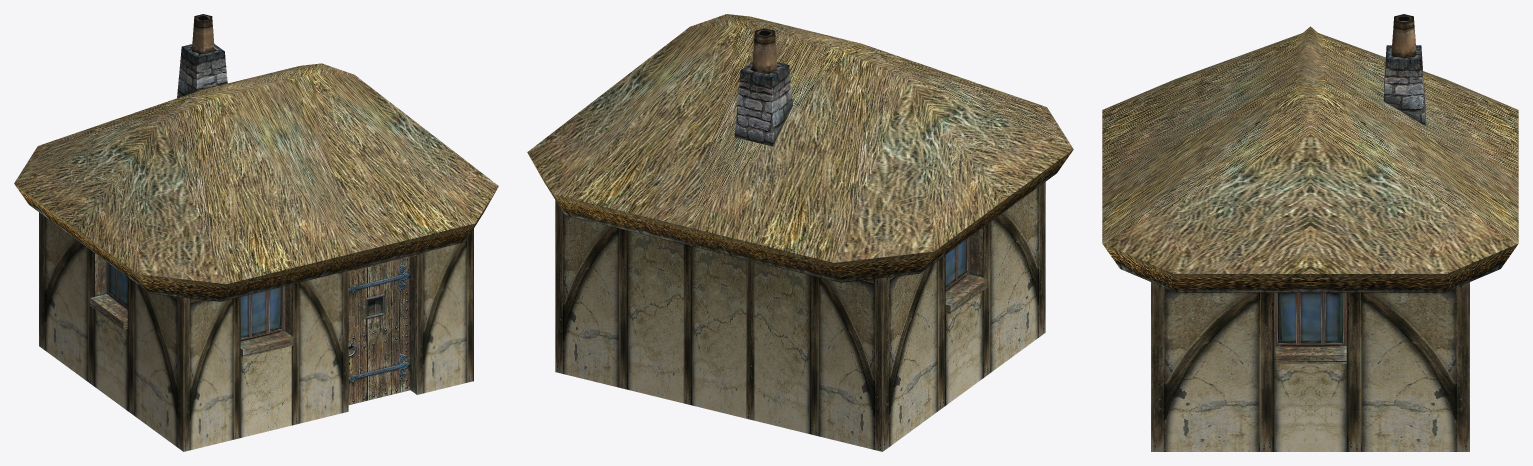
File: S_home20.glb
3 renders of one model, left to right at view 1: azimuth 30°, elevation 25°; view 2: azimuth 150°, elevation 25°; view 3: azimuth 270°, elevation 25°, orthographic. The views are drawn at different scales.
Visible parts, largest first — view 1: S_home20-col; view 2: S_home20-col; view 3: S_home20-col.
Part boxes in pixels (<box>): S_home20-col: <box>14,14,498,451</box>; S_home20-col: <box>527,14,1073,451</box>; S_home20-col: <box>1102,14,1518,451</box>.
Bounding box in the file's own units: 6.34 × 5.32 × 5.74.
8 materials, 8 textured.
